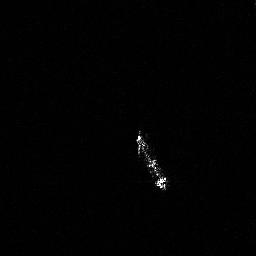ship: (133, 127, 172, 195)
